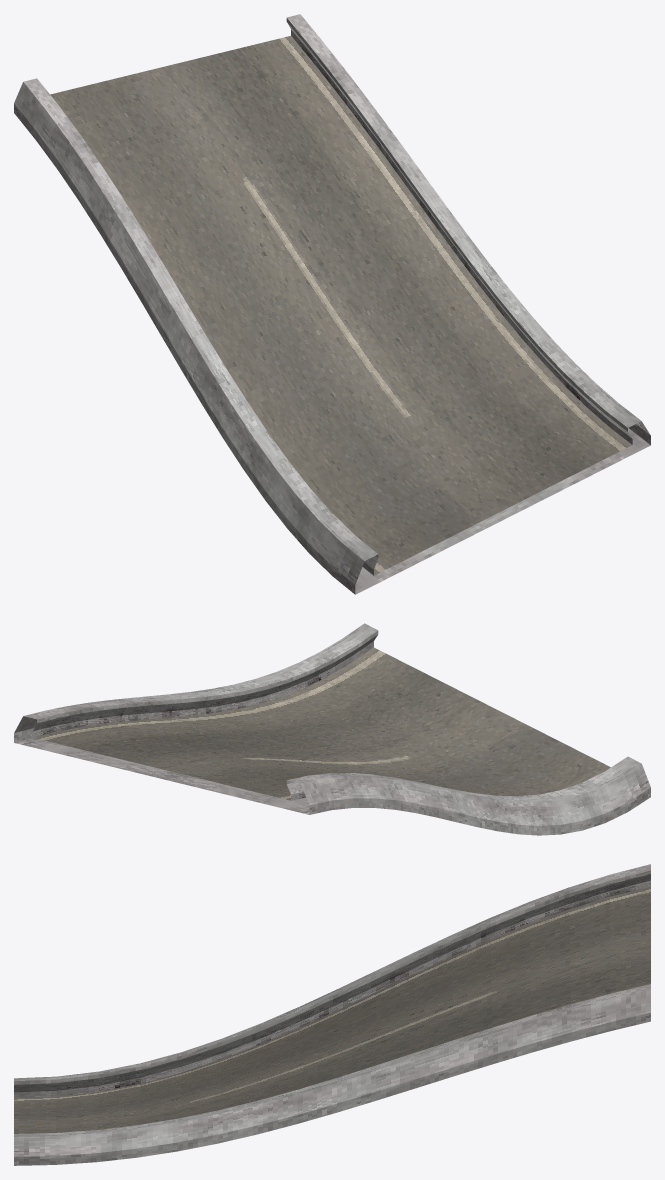
Rendered from road-Straight-HalfBankedLeft-BiSlopeUp-Up3-Center-Size2.glb.
3 renders of one model, top to bottom at view 1: azimuth 30°, elevation 25°; view 2: azimuth 150°, elevation 25°; view 3: azimuth 270°, elevation 25°, orthographic. The views are drawn at different scales.
Parts seen in each view (by area): view 1: road-Straight-HalfBankedLeft-BiSlopeUp-Up3-Center-Size2; view 2: road-Straight-HalfBankedLeft-BiSlopeUp-Up3-Center-Size2; view 3: road-Straight-HalfBankedLeft-BiSlopeUp-Up3-Center-Size2.
Boxes of the visible parts, <box> form: road-Straight-HalfBankedLeft-BiSlopeUp-Up3-Center-Size2: <box>14,14,650,594</box>; road-Straight-HalfBankedLeft-BiSlopeUp-Up3-Center-Size2: <box>14,623,650,835</box>; road-Straight-HalfBankedLeft-BiSlopeUp-Up3-Center-Size2: <box>14,864,650,1165</box>.
Bounding box in the file's own units: 1 × 0.8437 × 2.
Materials: 2 (2 with a texture image).
